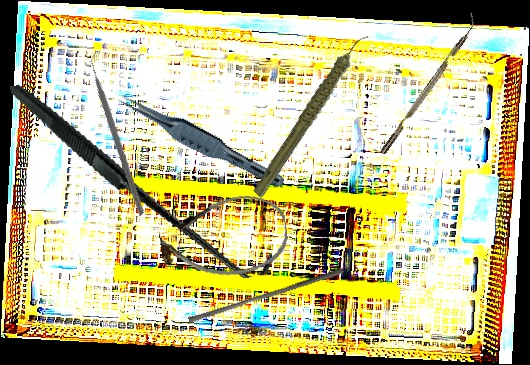Cannula: (155, 189, 292, 285)
Chopper: (32, 47, 208, 217), (373, 11, 483, 156)
Handpiece: (225, 31, 400, 200)
Hook Surgical: (9, 43, 276, 316)
Pusher: (187, 261, 345, 329)
Tissue Forceps: (112, 90, 291, 190)
